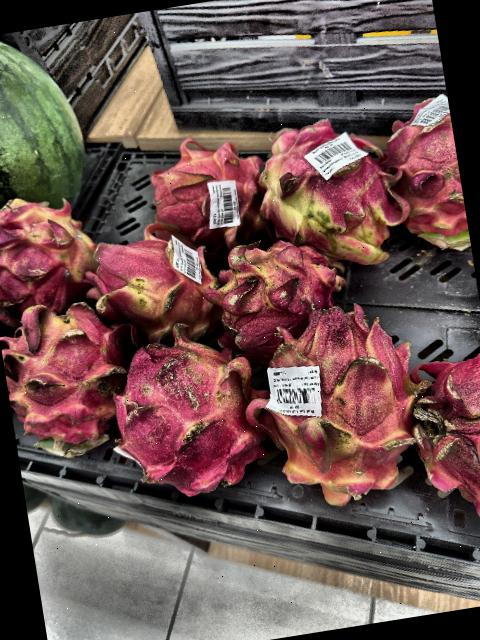buah-naga-belum-matang: (255, 300, 439, 514), (98, 318, 282, 510), (251, 114, 407, 267), (0, 291, 135, 456), (205, 229, 352, 348), (78, 229, 222, 346), (0, 181, 107, 318)
buah-naga-matang: (376, 91, 472, 256), (138, 134, 268, 246), (412, 345, 480, 539)
